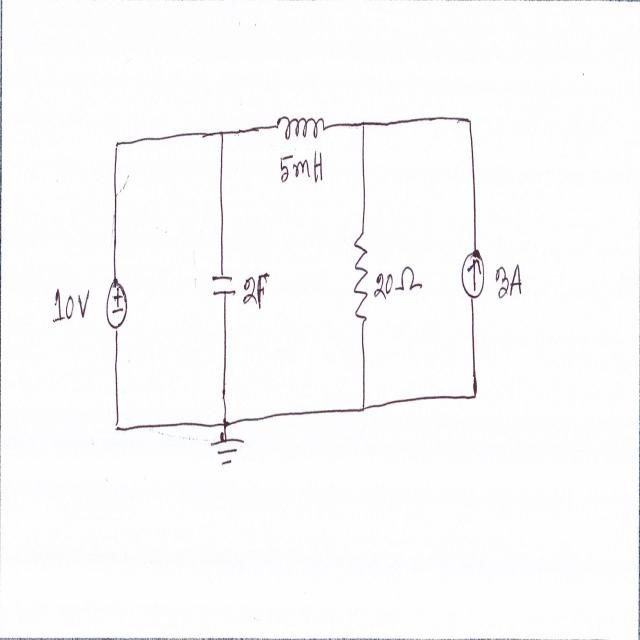capacitor: (203, 265, 239, 307)
current_source: (459, 243, 487, 306)
ground: (206, 430, 248, 473)
inductor: (273, 109, 327, 150)
resistor: (346, 227, 375, 332)
voltage_source: (104, 272, 129, 336)
